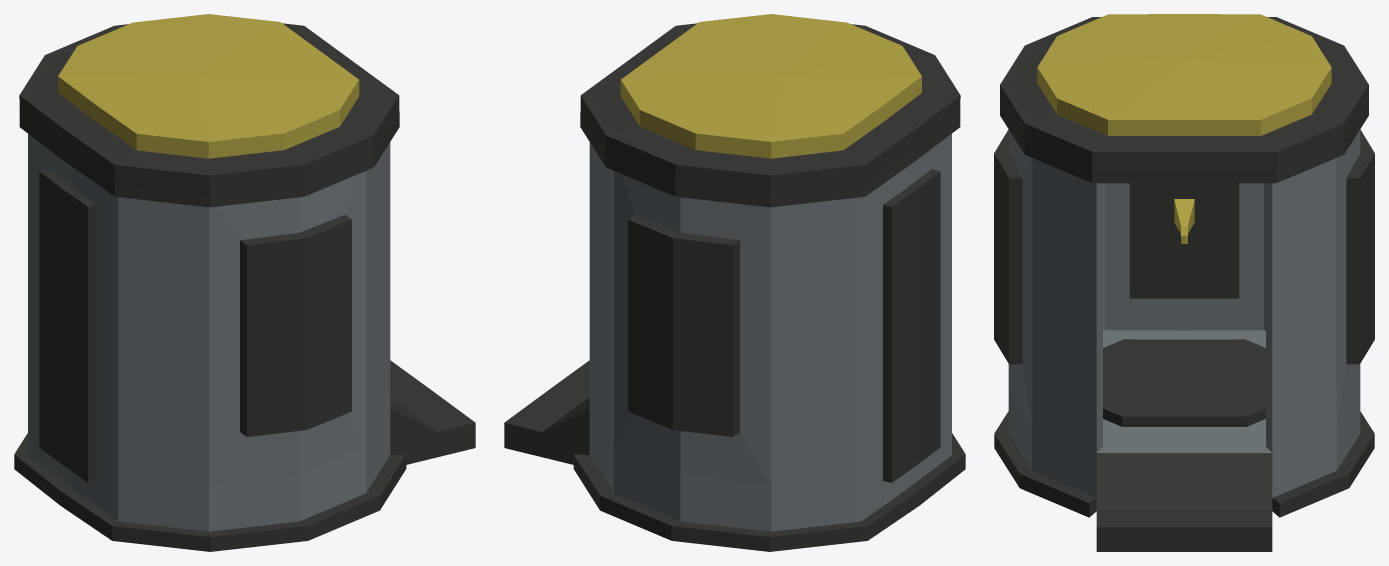
Rendered from CapsulaLowPoly.fbx.
3 views of the same model, side by side, from view 1: azimuth 30°, elevation 25°; view 2: azimuth 150°, elevation 25°; view 3: azimuth 270°, elevation 25° (orthographic). The views are drawn at different scales.
Visible parts, largest first — view 1: Cylinder; view 2: Cylinder; view 3: Cylinder.
Boxes of the visible parts, x1,y1,x2,y2 form: Cylinder: (14,14,475,551); Cylinder: (504,14,965,551); Cylinder: (994,14,1374,551).
Bounding box in the file's own units: 1924 × 1962 × 1766.
